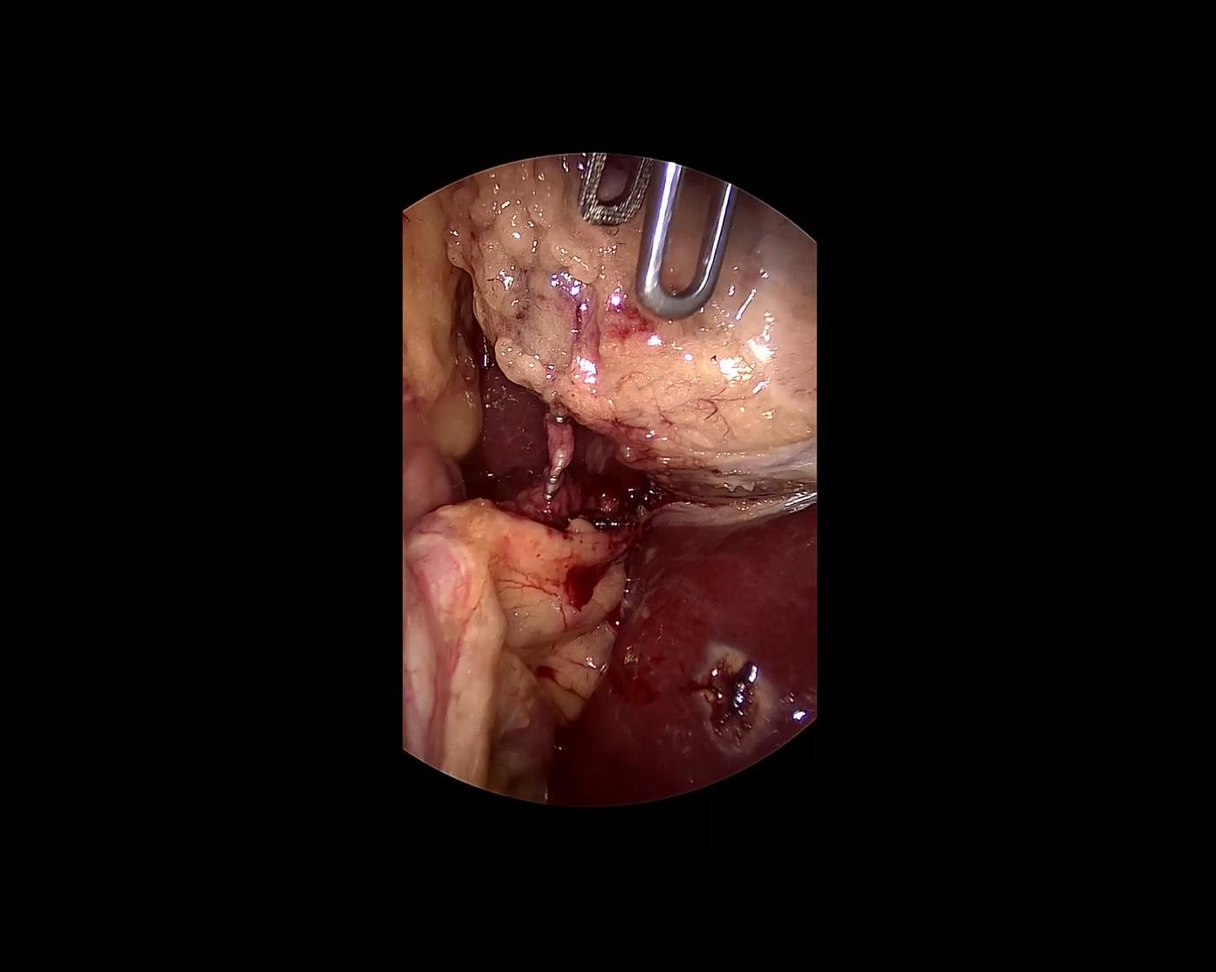Forceps: (549, 145, 741, 329)
Gallbladder: (449, 152, 817, 494)
Liver: (555, 499, 815, 811), (482, 367, 543, 476)
